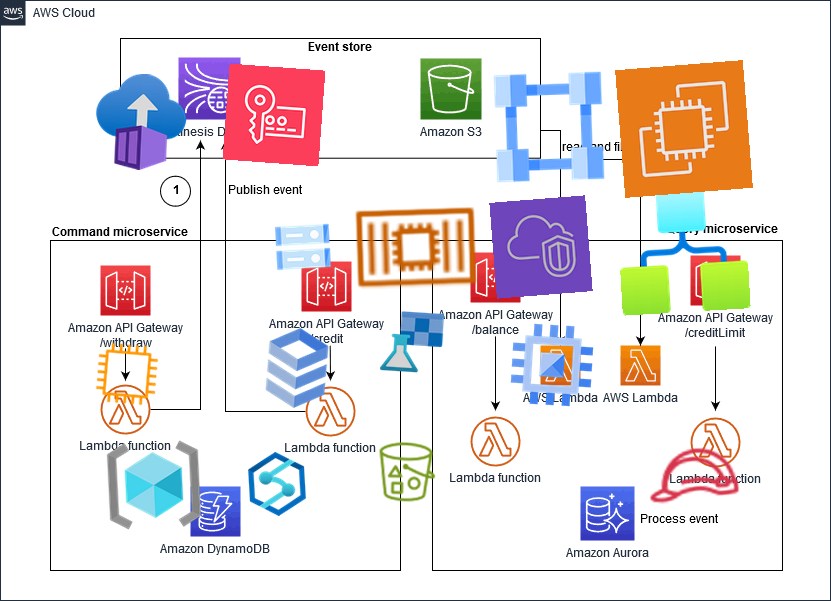aws_amazon_ec2: (615, 60, 753, 198)
aws_amazon_virtual_private_cloud: (489, 195, 593, 299)
aws_ec2_instance: (92, 339, 162, 409)
aws_elastic_container_service_container_2: (349, 180, 483, 314)
aws_identity_access_management_role: (641, 423, 745, 527)
aws_key_management_service: (222, 63, 326, 167)
aws_simple_storage_service_bucket_with_objects: (373, 438, 441, 506)
azure_container_instances: (90, 71, 192, 173)
azure_logic_apps: (615, 180, 751, 316)
azure_machine_learning_studio_workspaces: (378, 308, 446, 376)
azure_resource_groups: (103, 434, 205, 536)
azure_synapse_analytics: (243, 450, 311, 518)
gcp_cloud_sql: (245, 316, 349, 420)
gcp_cloud_storage: (269, 213, 337, 281)
gcp_compute_engine: (501, 314, 603, 416)
gcp_virtual_private_cloud: (482, 60, 616, 194)
